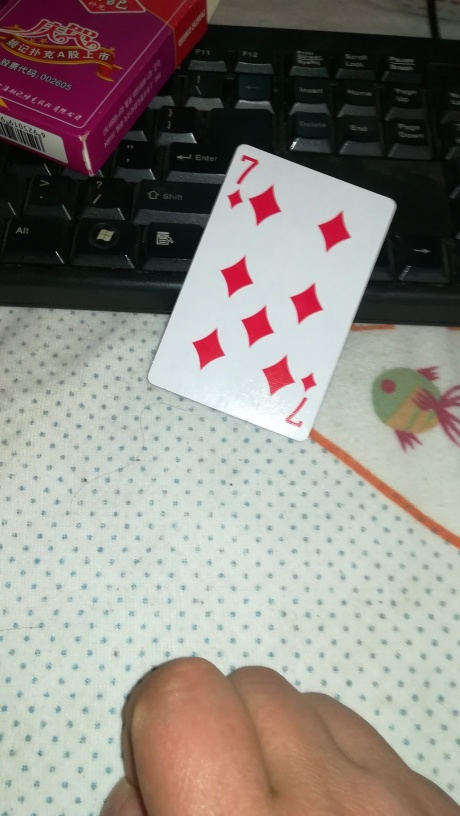fk 7: (147, 142, 399, 446)
